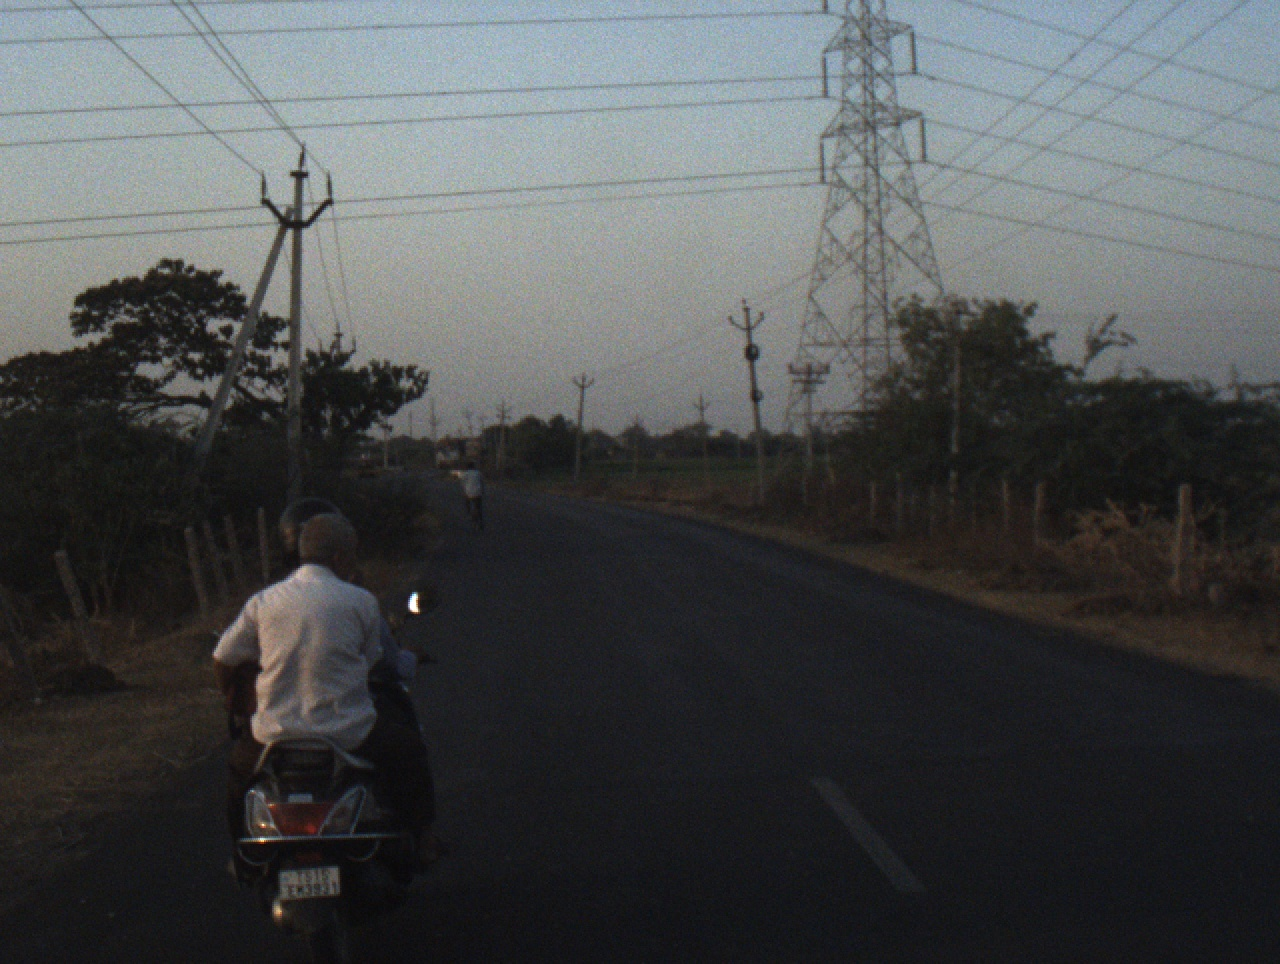autorickshaw: (357, 455, 381, 479)
bicycle: (462, 497, 483, 535)
motorcycle: (214, 587, 453, 942)
rider: (202, 511, 444, 903), (262, 495, 429, 680), (458, 461, 487, 518)
